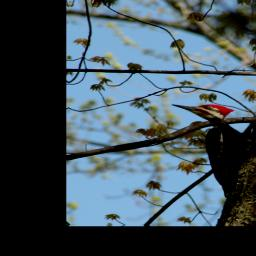Woodpecker: (165, 102, 255, 200)
